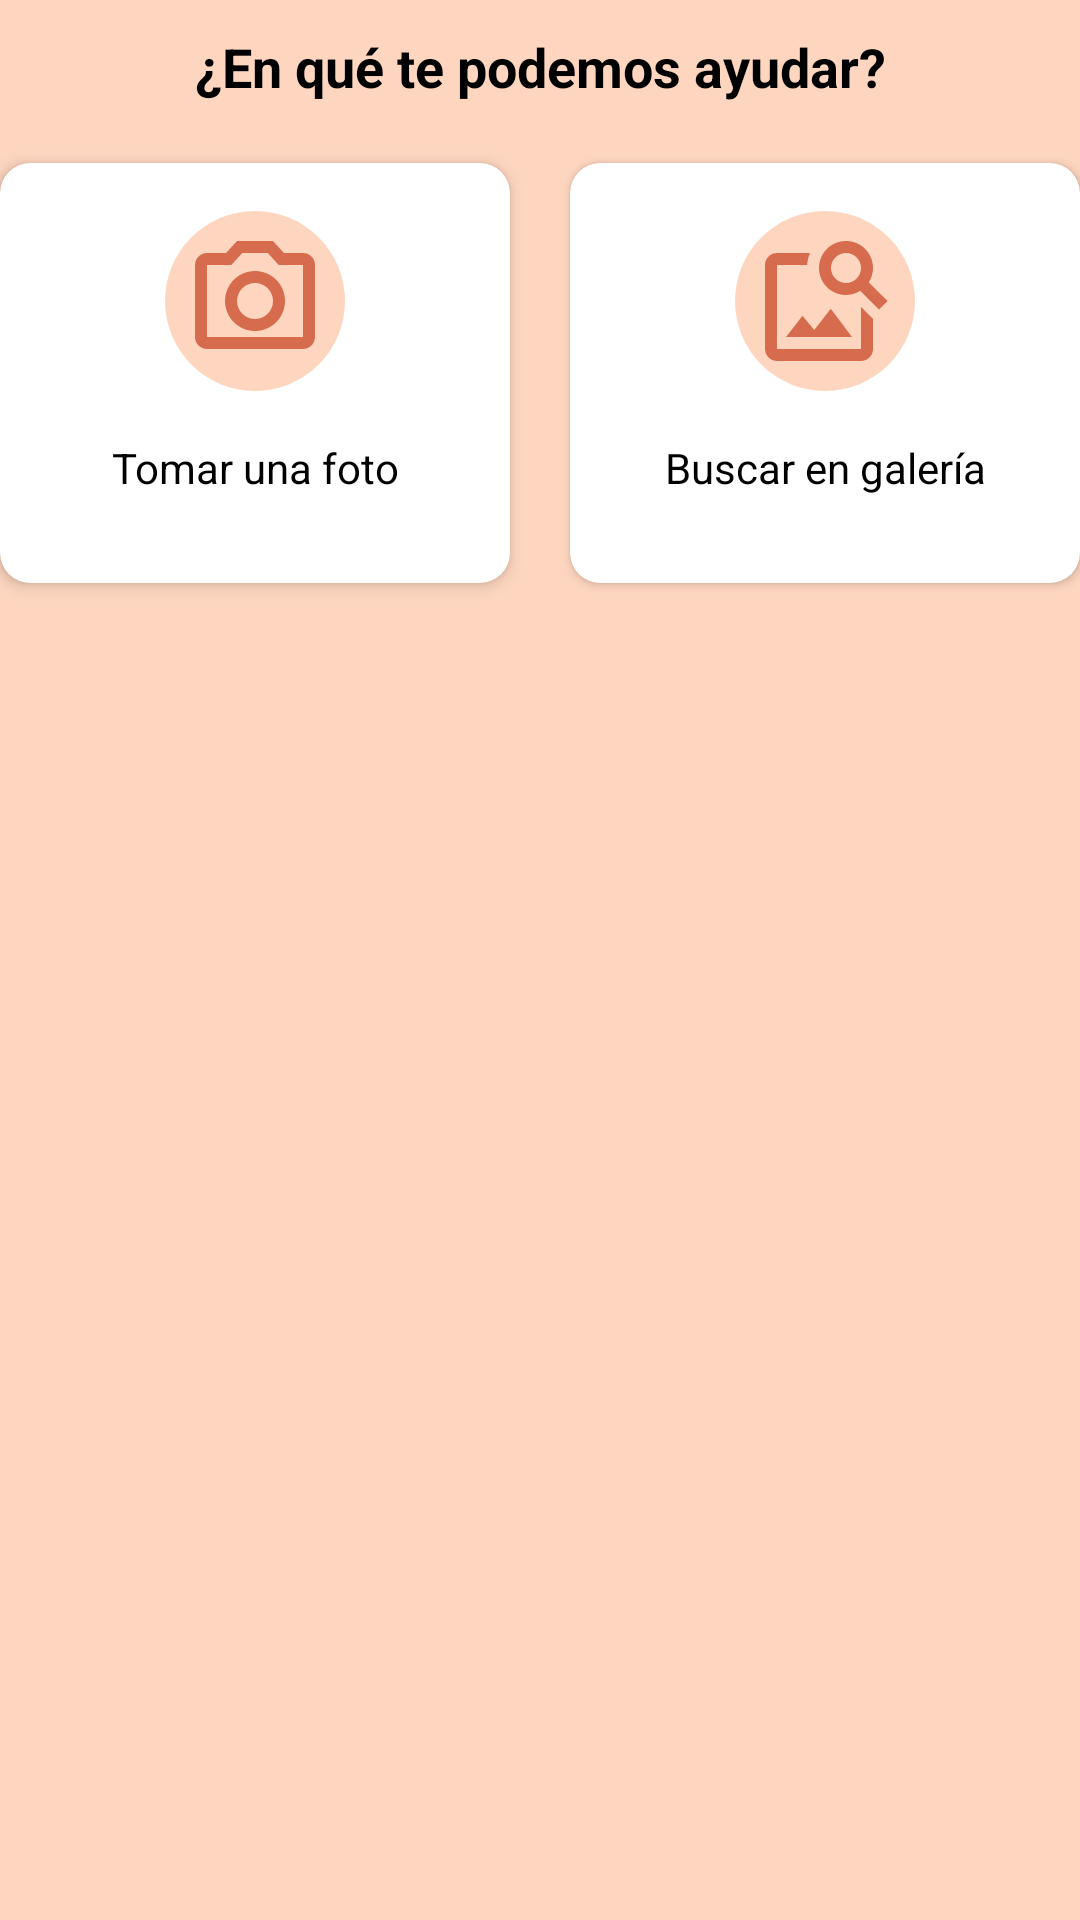

Icons on this 1080x1920 Android screen, each with its box as [left=x1, top=y1, right=x2, bottom=y2]:
camara: [left=195, top=241, right=315, bottom=349]
galeria: [left=765, top=241, right=887, bottom=361]
